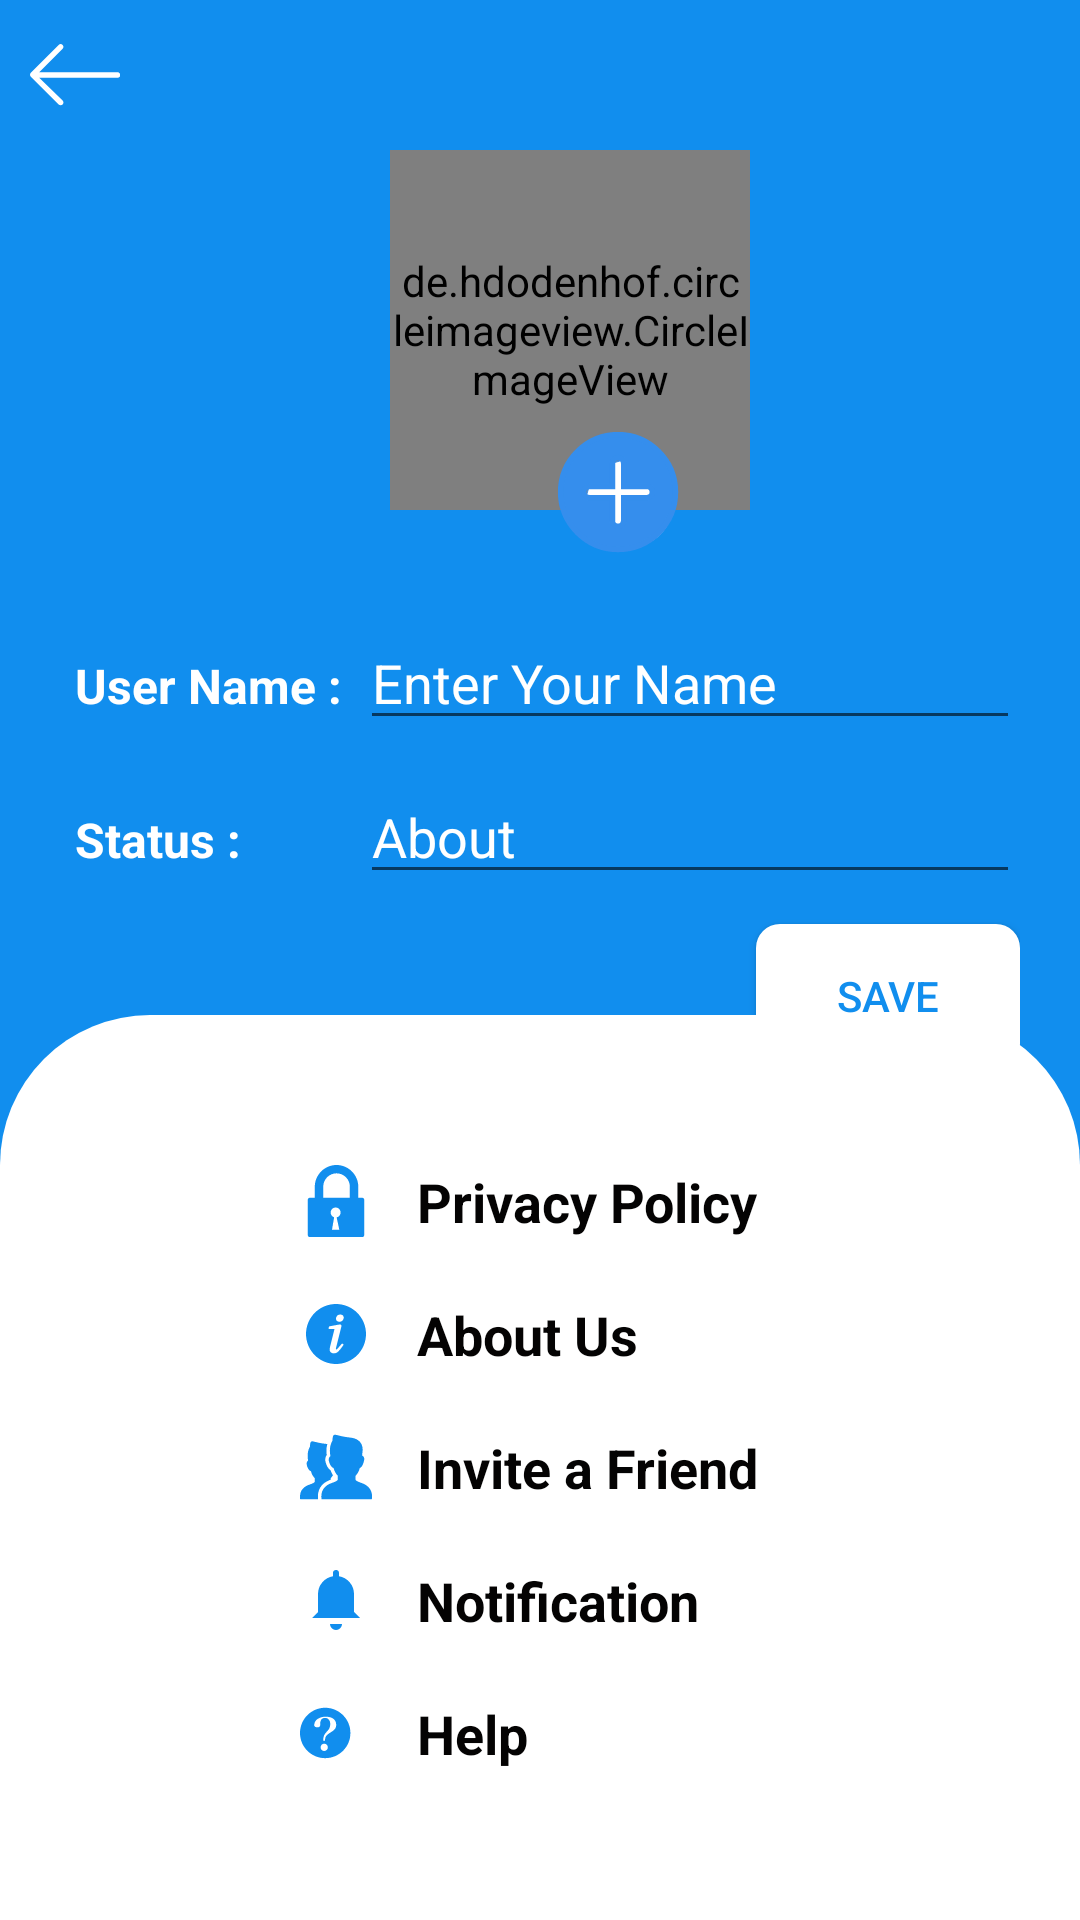

Icons on this 1080w x 1920h Android screen, each with the point to tap as (x,y):
leftarrow: (75,75)
plus: (629,503)
